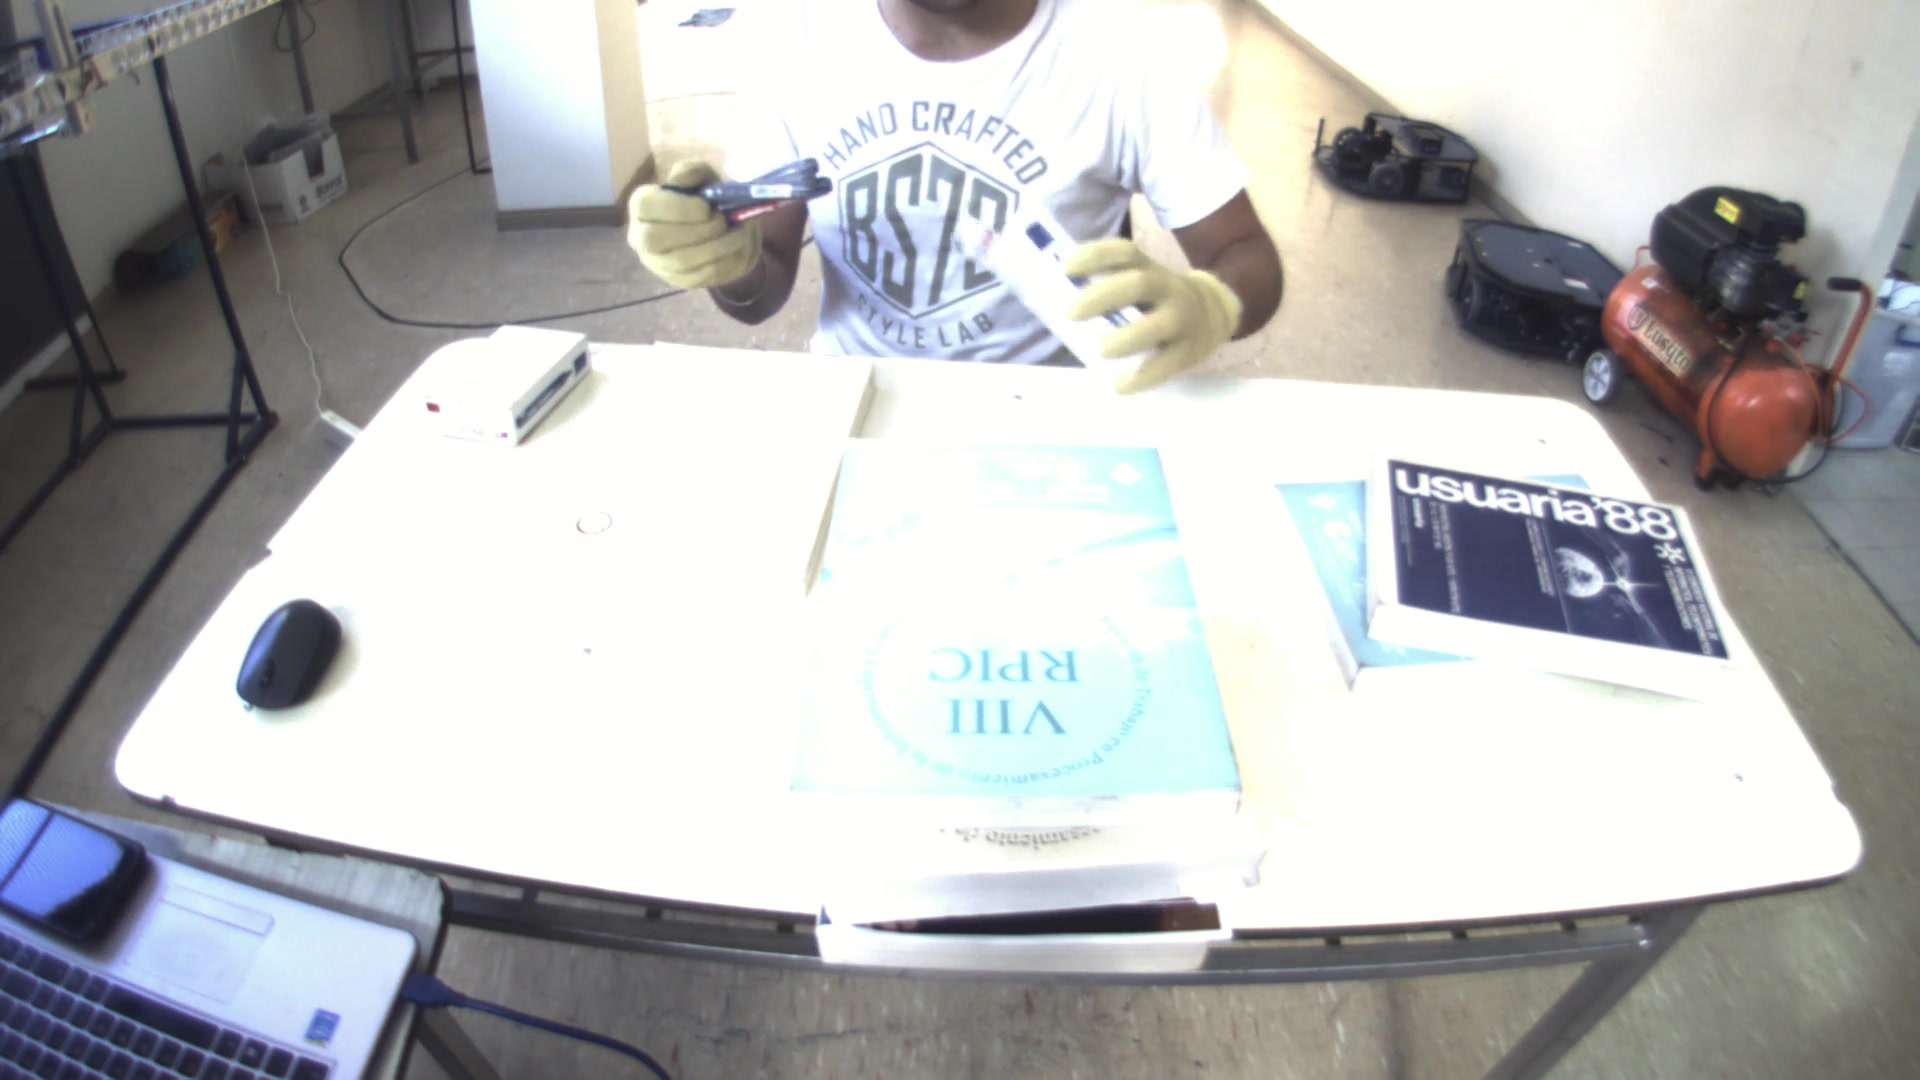hand: (1054, 207, 1254, 400), (611, 160, 775, 297)
